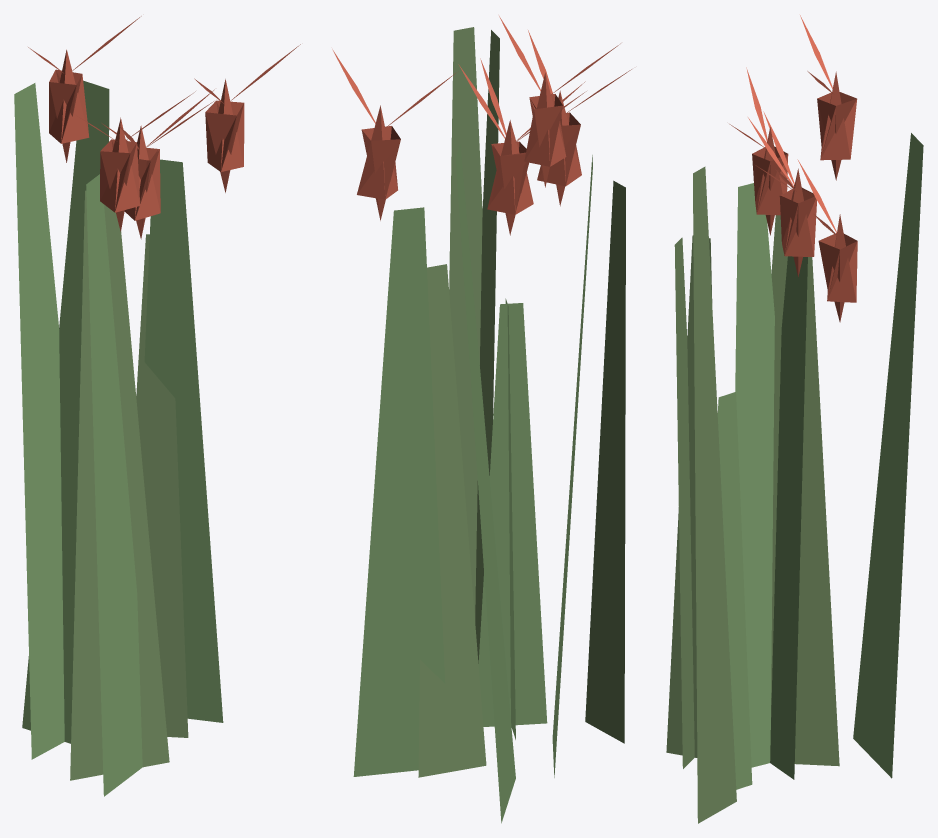
File: cao.luwei@fruiting__spring.glb
3 views of the same model, side by side, from view 1: azimuth 30°, elevation 25°; view 2: azimuth 150°, elevation 25°; view 3: azimuth 270°, elevation 25° (orthographic). The views are drawn at different scales.
Visible parts, largest first — view 1: cao.luwei@fruiting__spring; view 2: cao.luwei@fruiting__spring; view 3: cao.luwei@fruiting__spring.
Part boxes in pixels (box(x1,y1,x2,y2)): cao.luwei@fruiting__spring: box(14, 16, 300, 796); cao.luwei@fruiting__spring: box(332, 16, 631, 823); cao.luwei@fruiting__spring: box(666, 15, 923, 823).
Size of the model in its own units: 1.07 by 2.69 by 0.8822.
